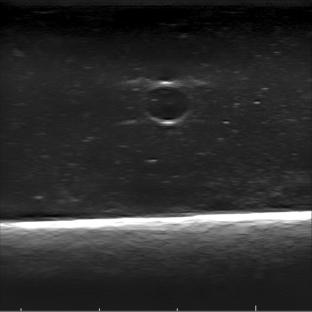vessel: (140, 81, 193, 125)
